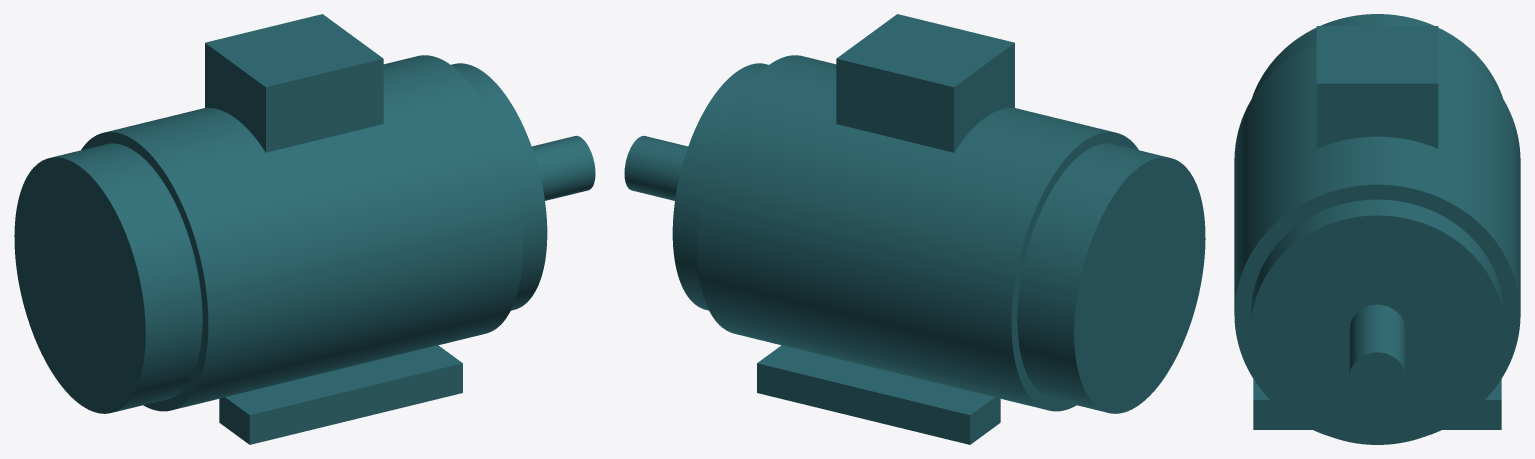
Rendered from MOT-3P-055.glb.
3 renders of one model, left to right at view 1: azimuth 30°, elevation 25°; view 2: azimuth 150°, elevation 25°; view 3: azimuth 270°, elevation 25°, orthographic.
Parts seen in each view (by area): view 1: MOT-3P-055; view 2: MOT-3P-055; view 3: MOT-3P-055.
Part boxes in pixels (x1,y1,x2,y2): MOT-3P-055: (14,14,595,444); MOT-3P-055: (624,14,1205,444); MOT-3P-055: (1234,14,1520,444).
Size of the model in its own units: 0.247 by 0.152 by 0.122.
